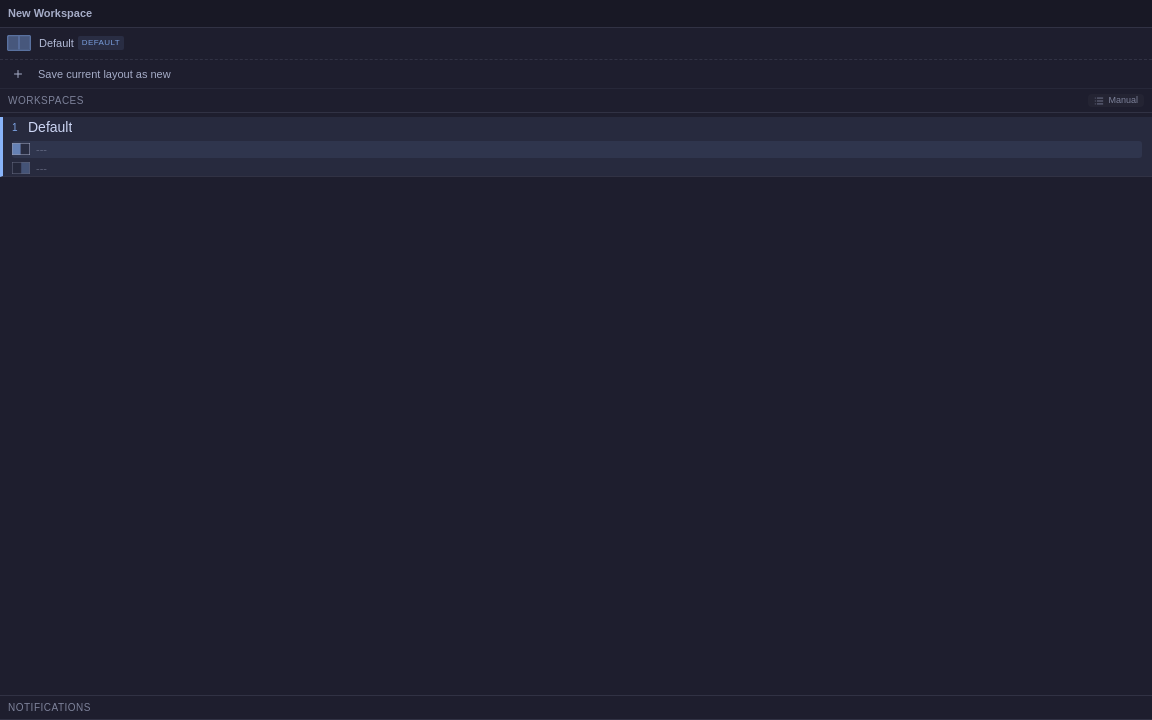
Test: WorkspaceSelectorView › shows notification panel when toggled
Click the element with test id "toggle-notification-panel". click: [576, 708]
box: [0,695,1151,719]
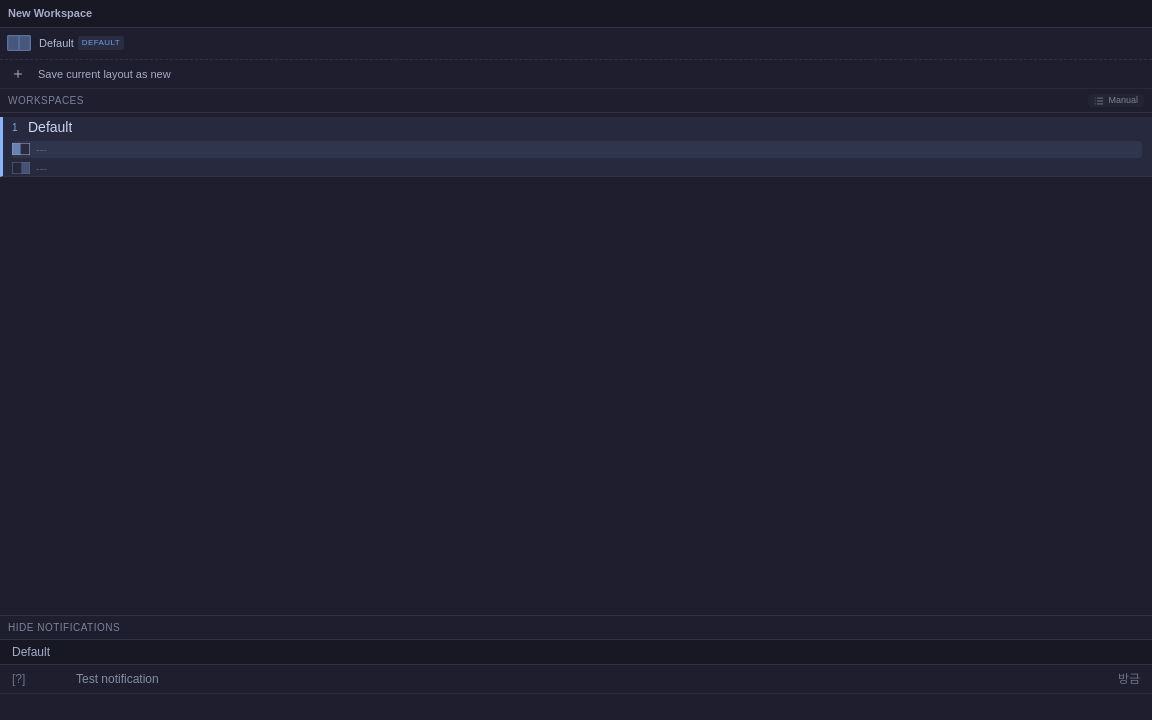
Expected: the text "Test notification" is shown, [76,672,159,686]
